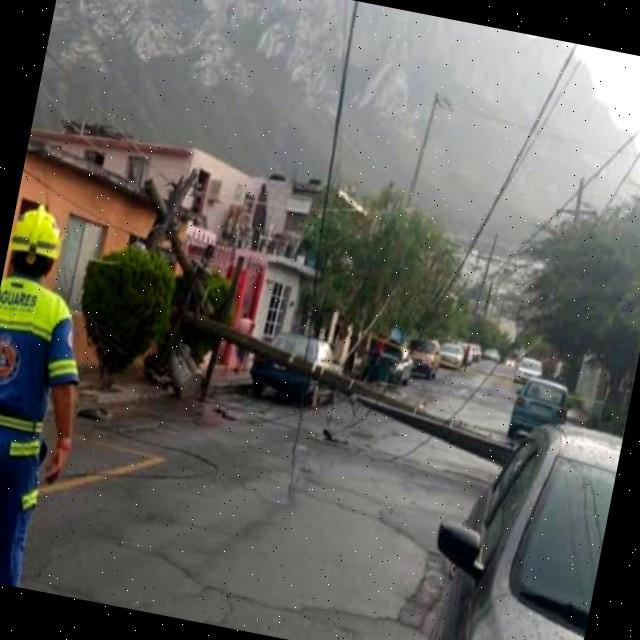Broken Pole: (134, 169, 513, 467)
